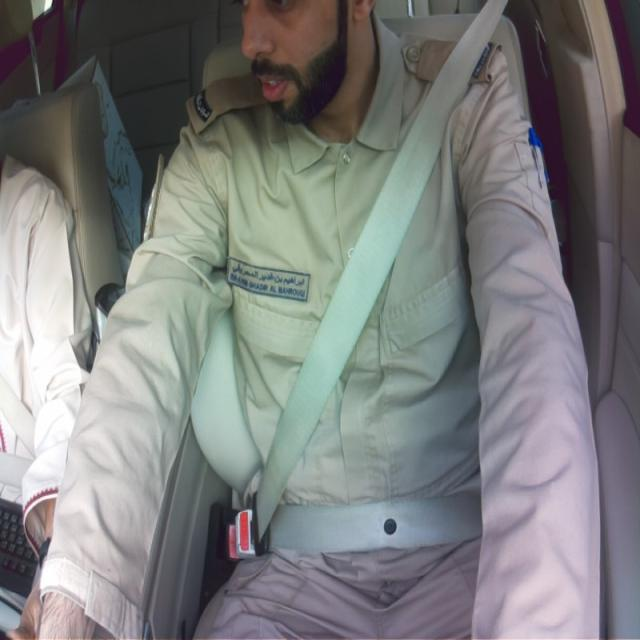seatbelt: (256, 0, 504, 552)
